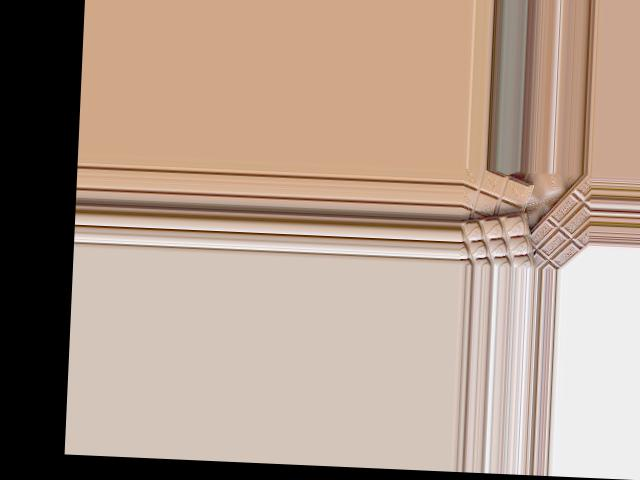chocolate: (460, 174, 533, 233)
